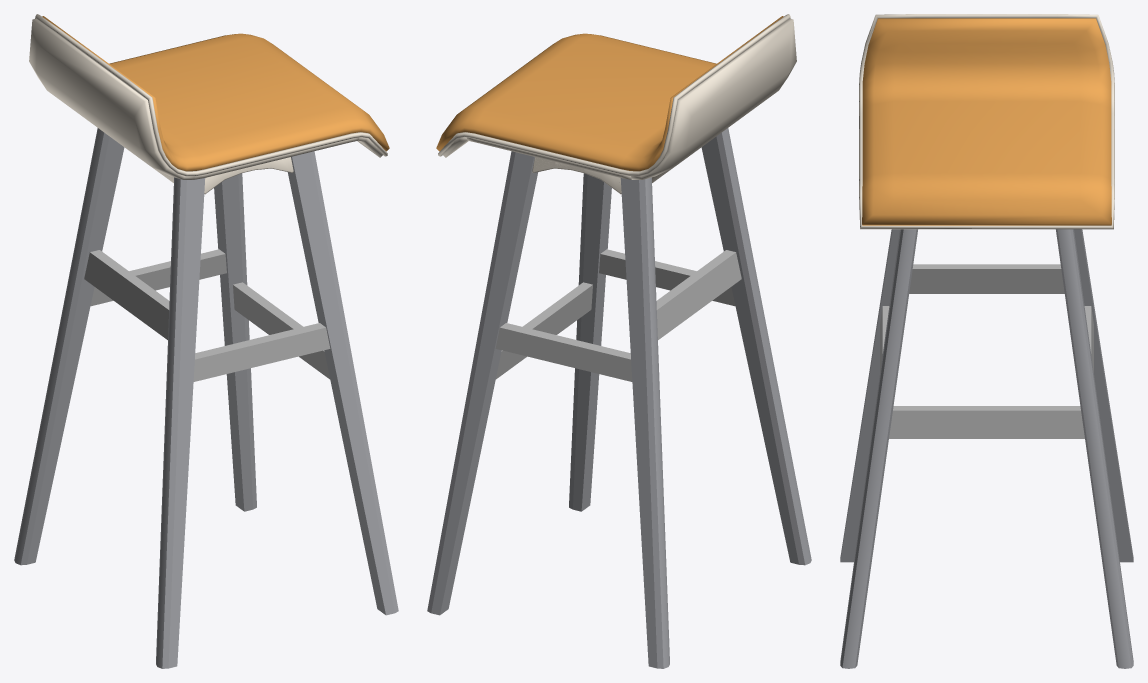
The model's file is High_Chair 1.fbx.
3 views of the same model, side by side, from view 1: azimuth 30°, elevation 25°; view 2: azimuth 150°, elevation 25°; view 3: azimuth 270°, elevation 25° (orthographic). The views are drawn at different scales.
Visible parts, largest first — view 1: High_Chair; view 2: High_Chair; view 3: High_Chair.
Boxes of the visible parts, box(x1,y1,x2,y2) form: High_Chair: box(14, 14, 398, 668); High_Chair: box(427, 14, 811, 668); High_Chair: box(840, 14, 1133, 668).
Size of the model in its own units: 43.11 by 95.47 by 46.63.
